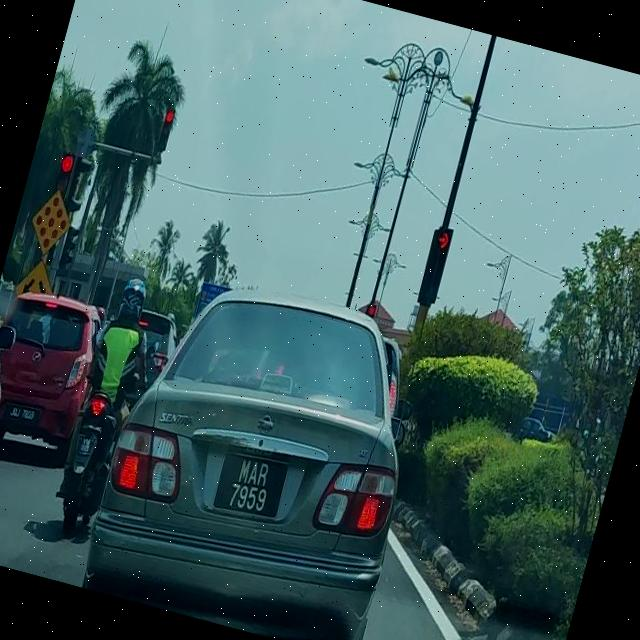red_light: (421, 226, 454, 304), (48, 150, 76, 217), (155, 105, 176, 152)
